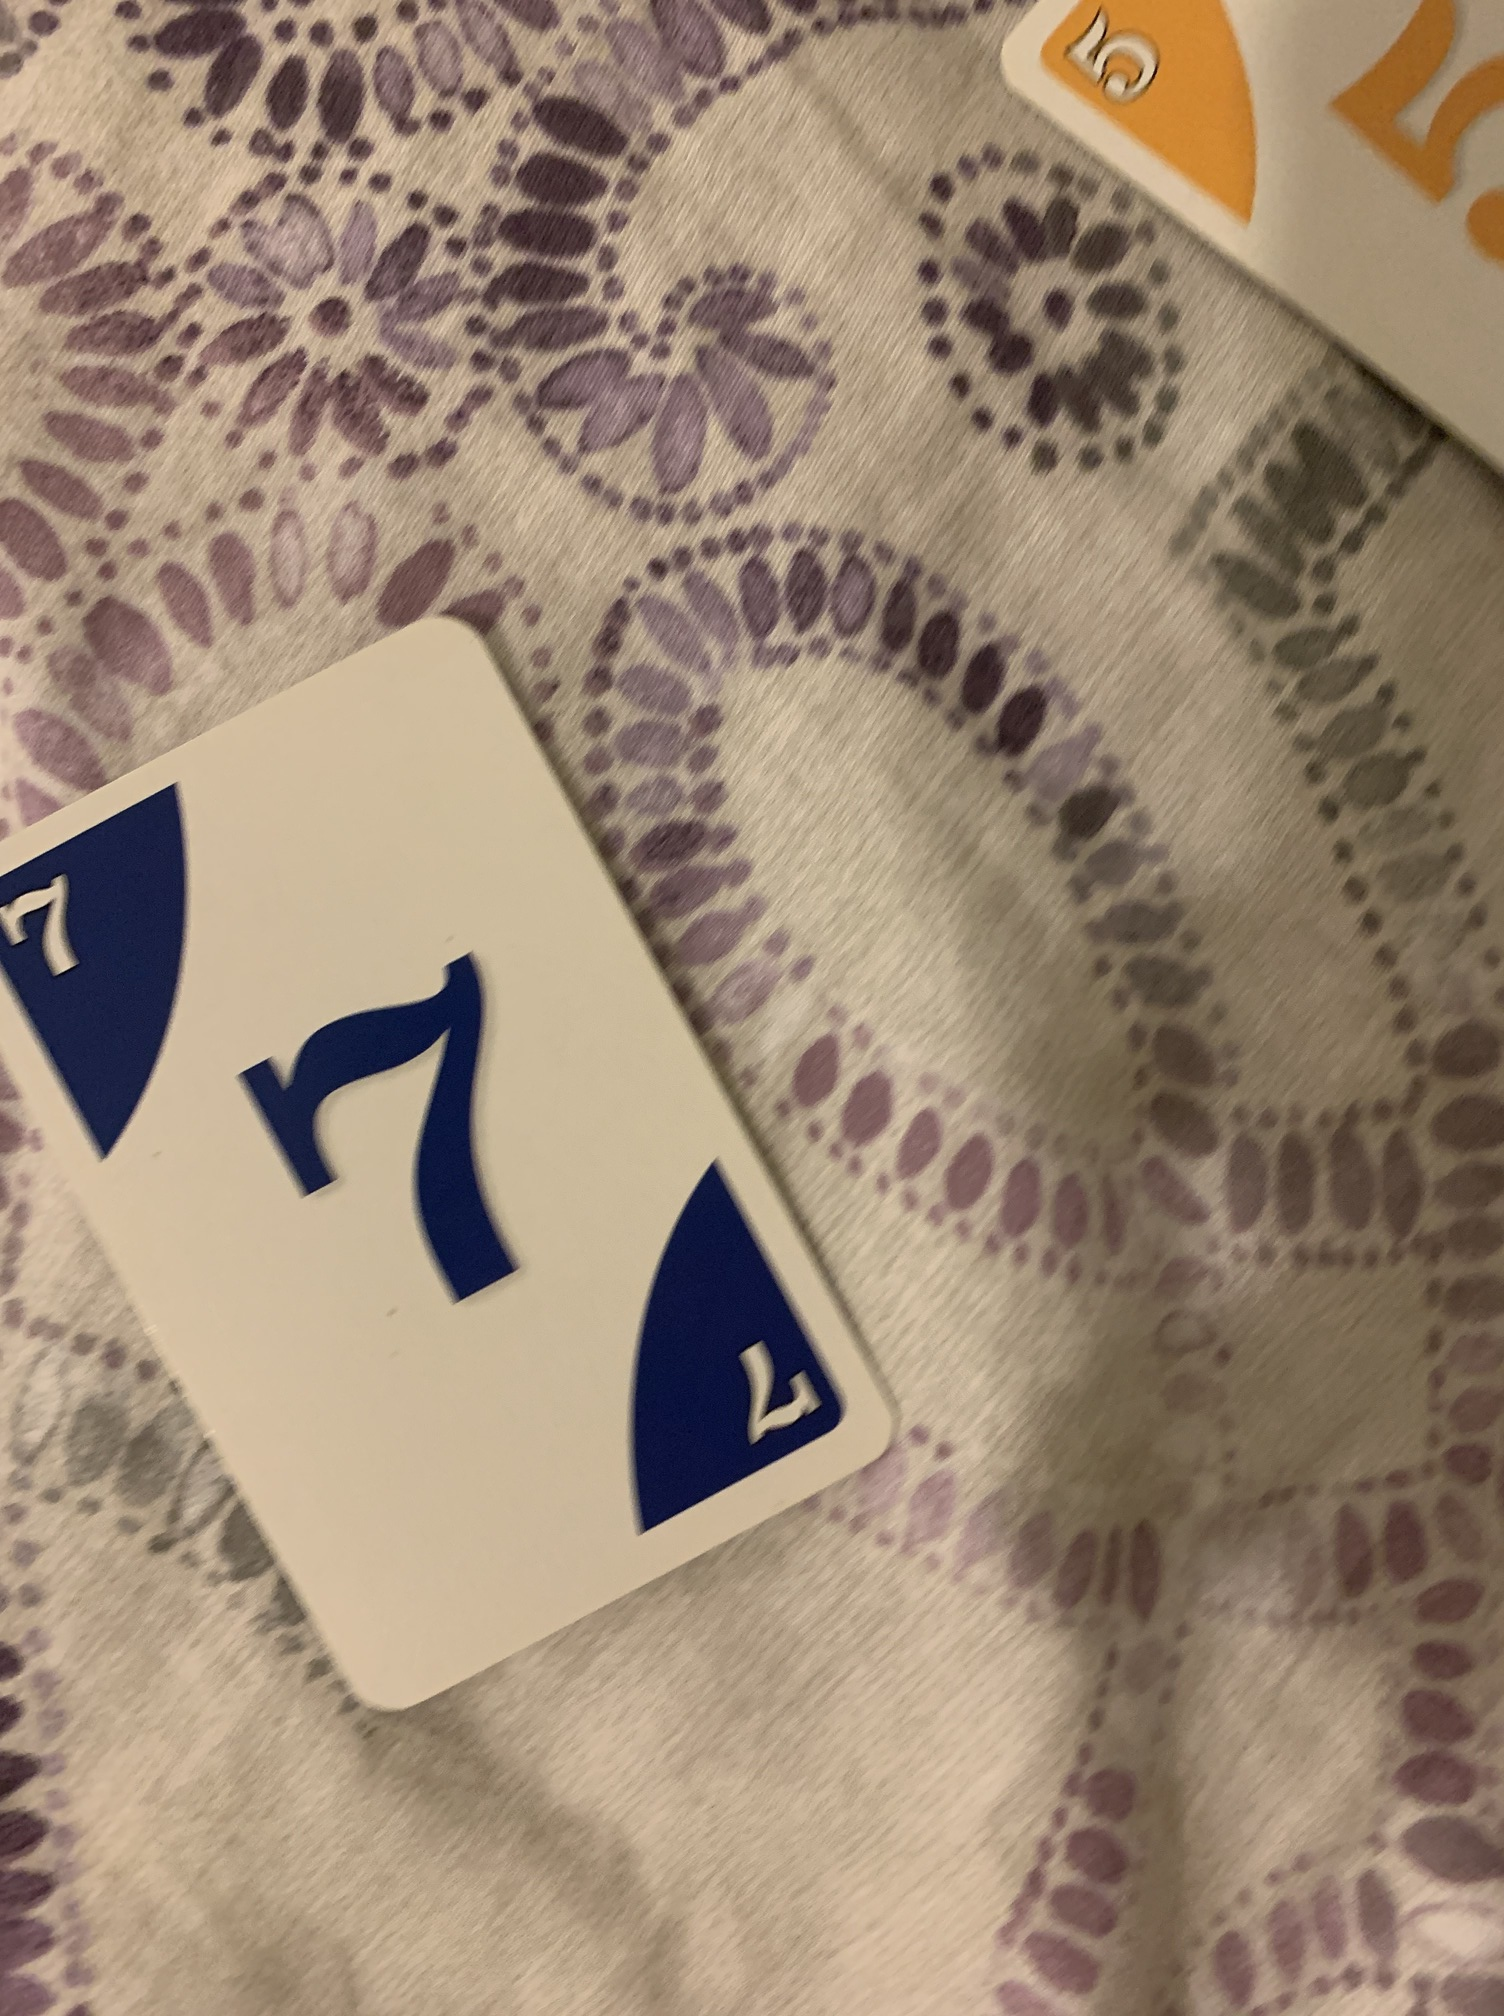seven: (3, 608, 913, 1740)
